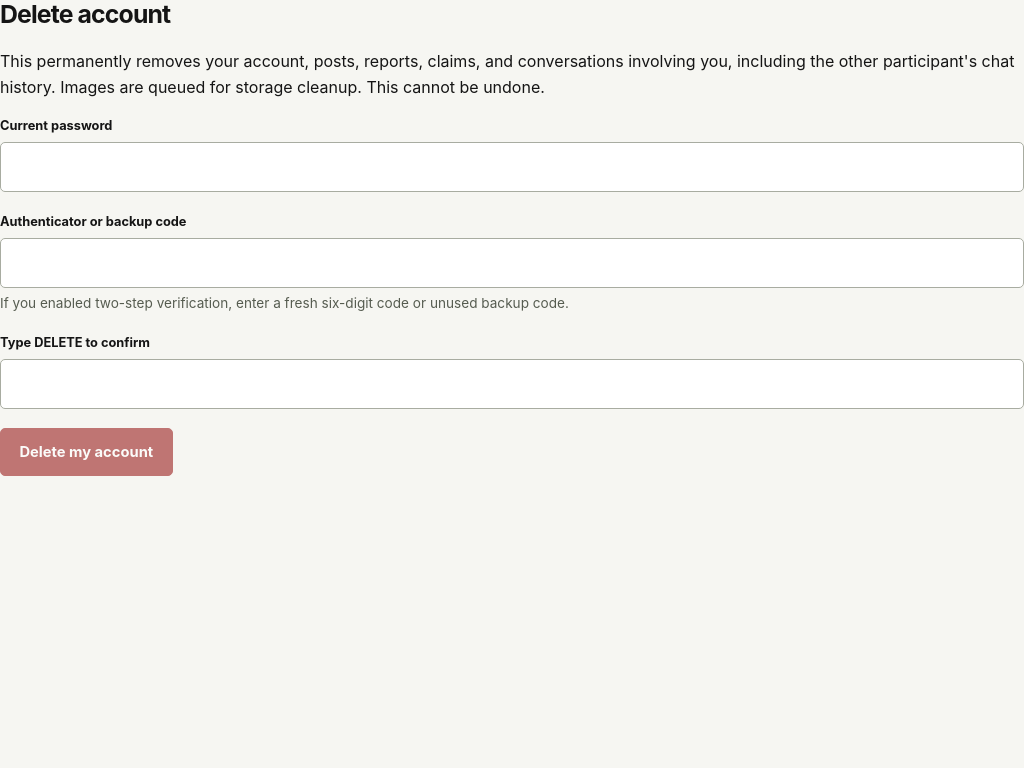
Test case: account deletion requires explicit confirmation, clears password on cancellation and sends no early mutation
Expected: the button "Delete my account" is disabled, [0,428,173,476]
Type "A disposable passphrase" into the password field labelled "Current password". click: (512, 167)
box: [0,142,1023,192]
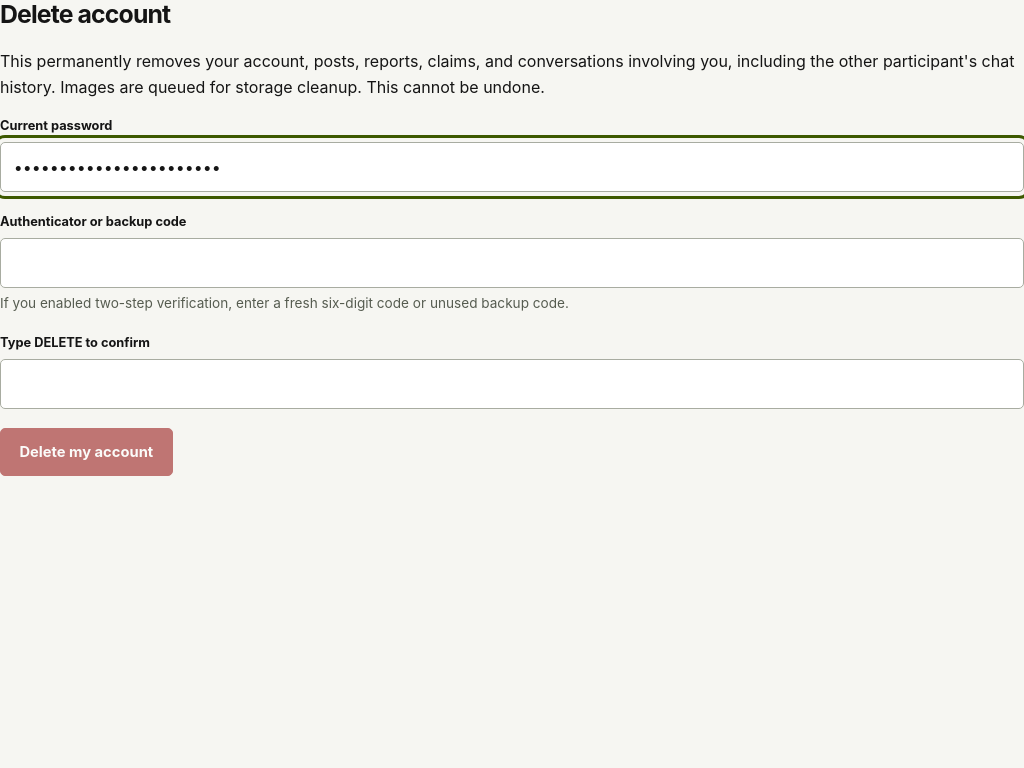
Type "DELETE" into the field labelled "Type DELETE to confirm". click: (512, 384)
box: [0,359,1023,409]
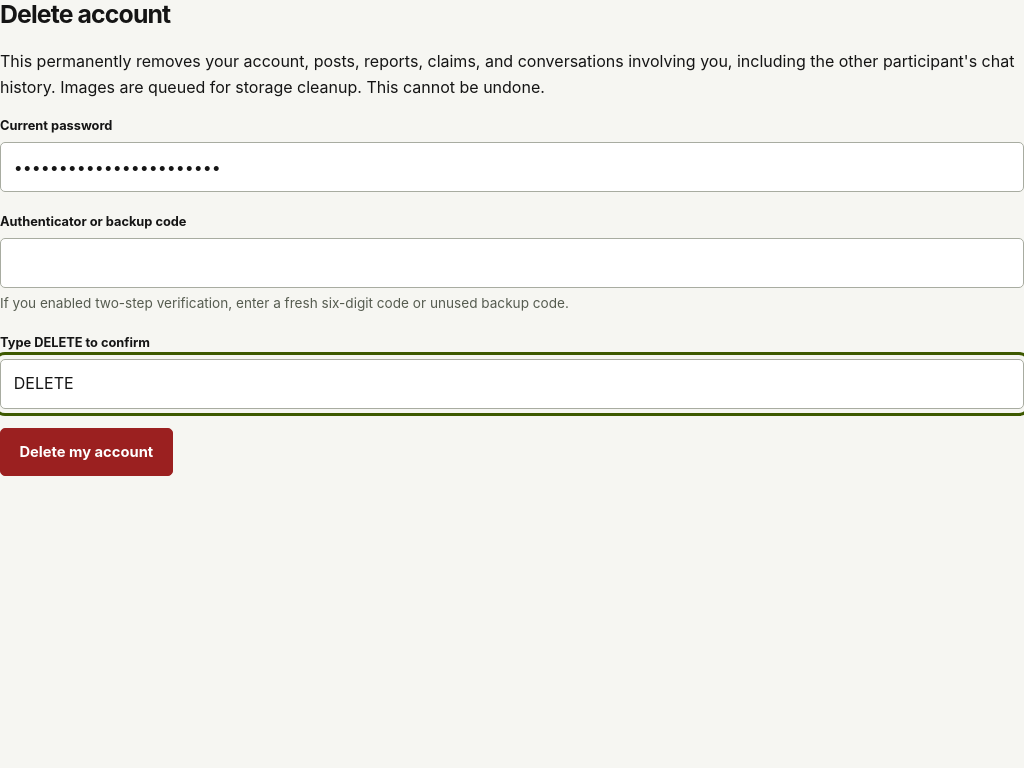
Click the button "Delete my account". click: (86, 452)
box: [0,428,173,476]
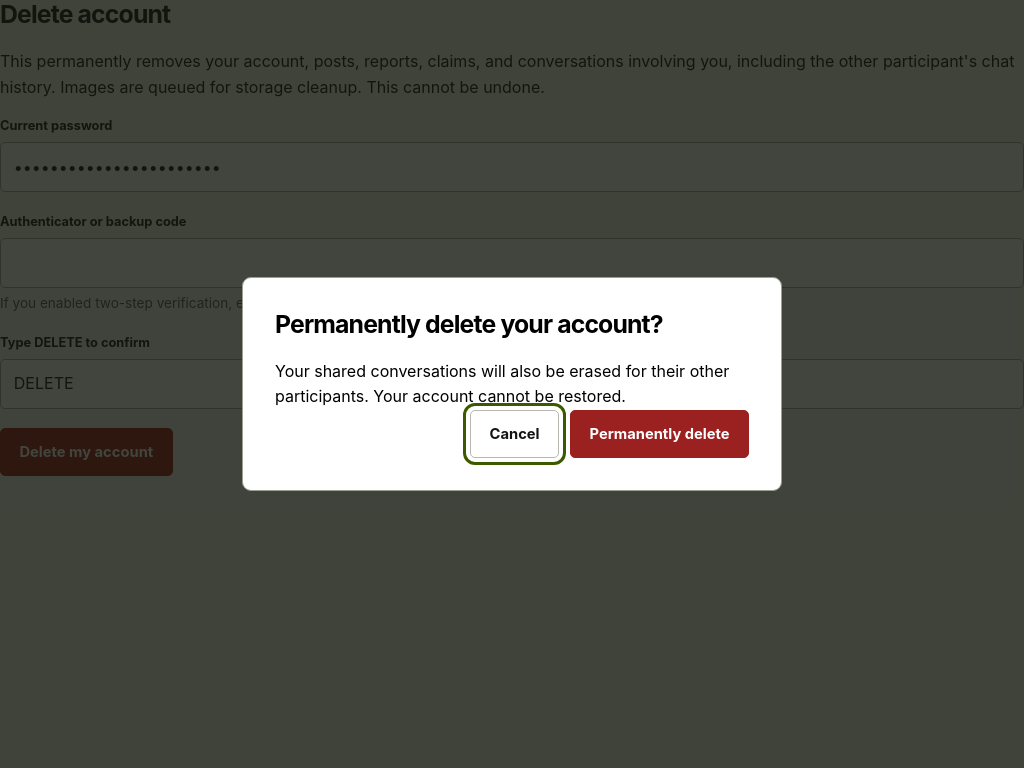
Click the button "Cancel". click: (514, 434)
box: [470,410,559,458]
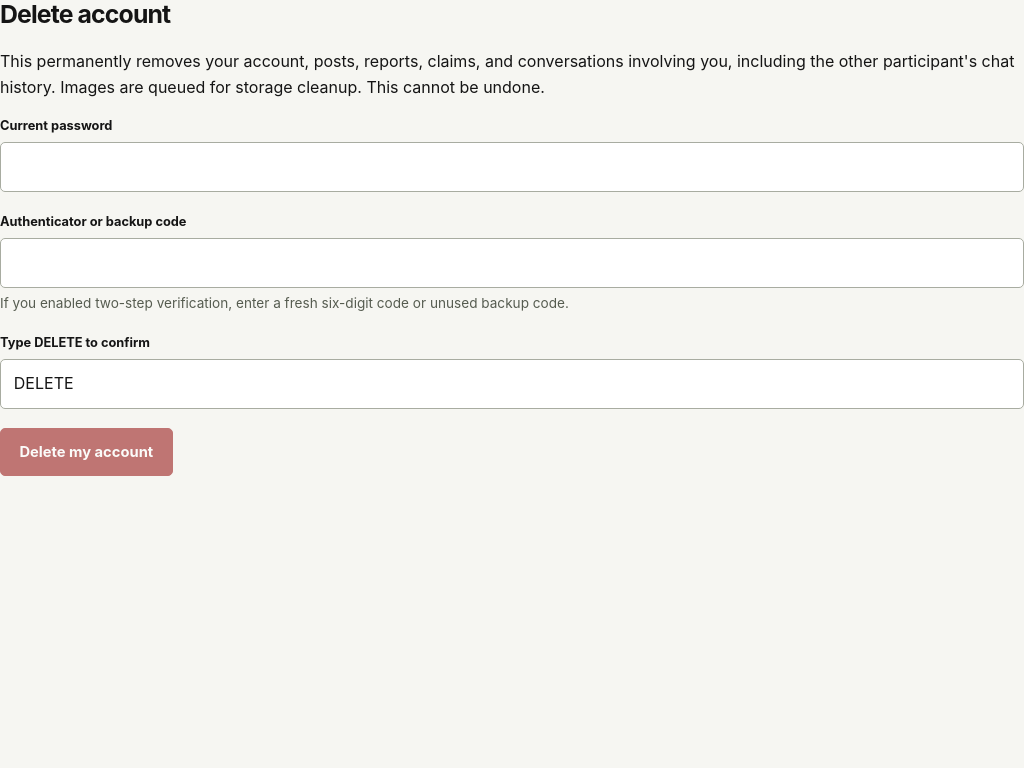
Result: the password field labelled "Current password" is empty at [0,142,1023,192]
